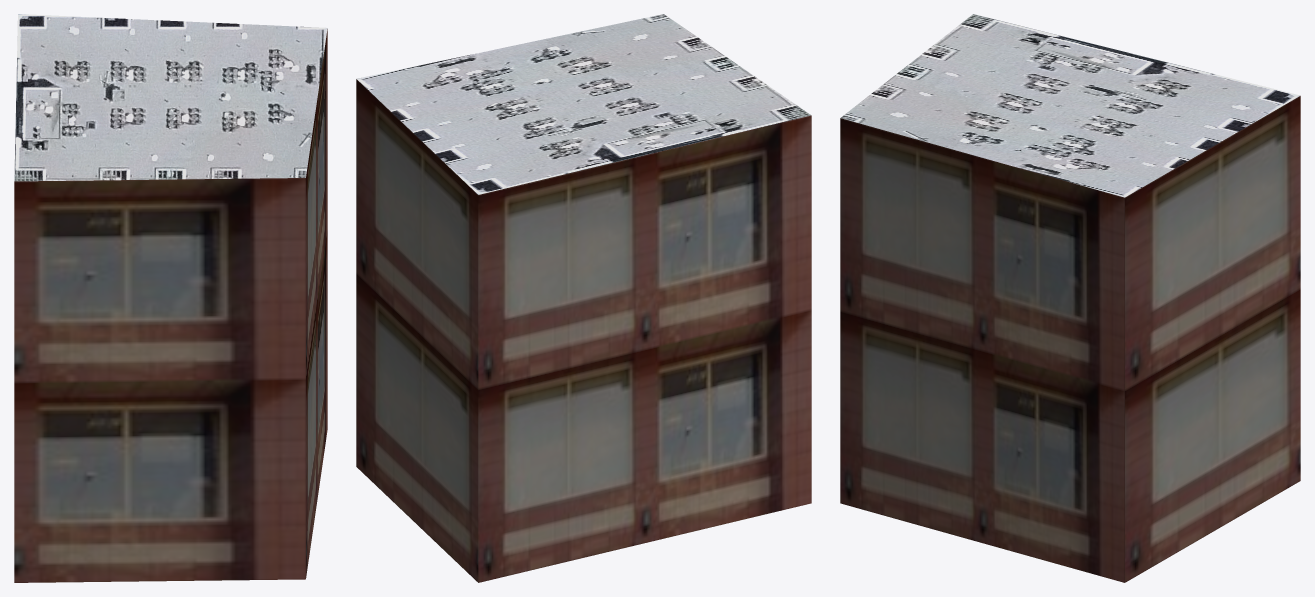
The model's file is ResTex__3938.fbx.
3 renders of one model, left to right at view 1: azimuth 30°, elevation 25°; view 2: azimuth 150°, elevation 25°; view 3: azimuth 270°, elevation 25°, orthographic. The views are drawn at different scales.
Parts seen in each view (by area): view 1: CityEngineMaterial_13_m, CityEngineMaterial_m; view 2: CityEngineMaterial_13_m, CityEngineMaterial_m; view 3: CityEngineMaterial_13_m, CityEngineMaterial_m.
Boxes of the visible parts, x1,y1,x2,y2 form: CityEngineMaterial_13_m: (14, 29, 327, 582); CityEngineMaterial_m: (14, 14, 327, 181); CityEngineMaterial_13_m: (356, 79, 811, 582); CityEngineMaterial_m: (356, 14, 811, 194); CityEngineMaterial_13_m: (840, 96, 1300, 582); CityEngineMaterial_m: (841, 14, 1300, 197).
Bounding box in the file's own units: 6.13 × 6 × 6.5.
2 materials, 2 textured.
